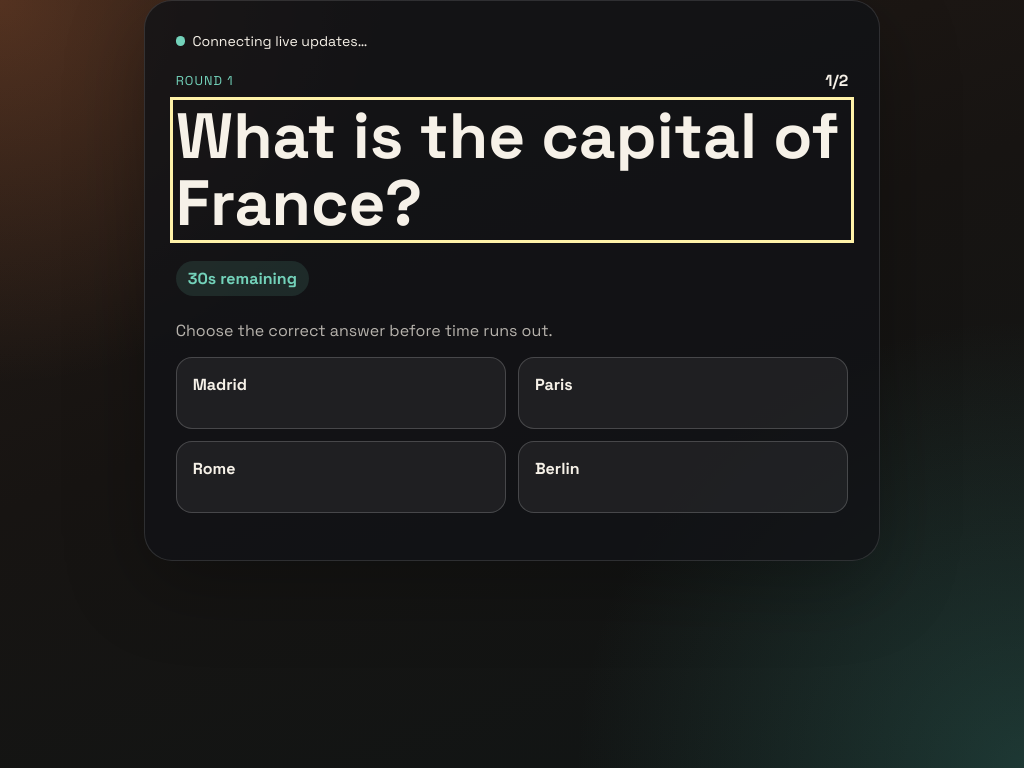
Test: RoomPage › reports a Choice Trivia submission error and permits a retry
Click the button "Berlin" at (557, 469), box left=518, top=442, right=848, bottom=514
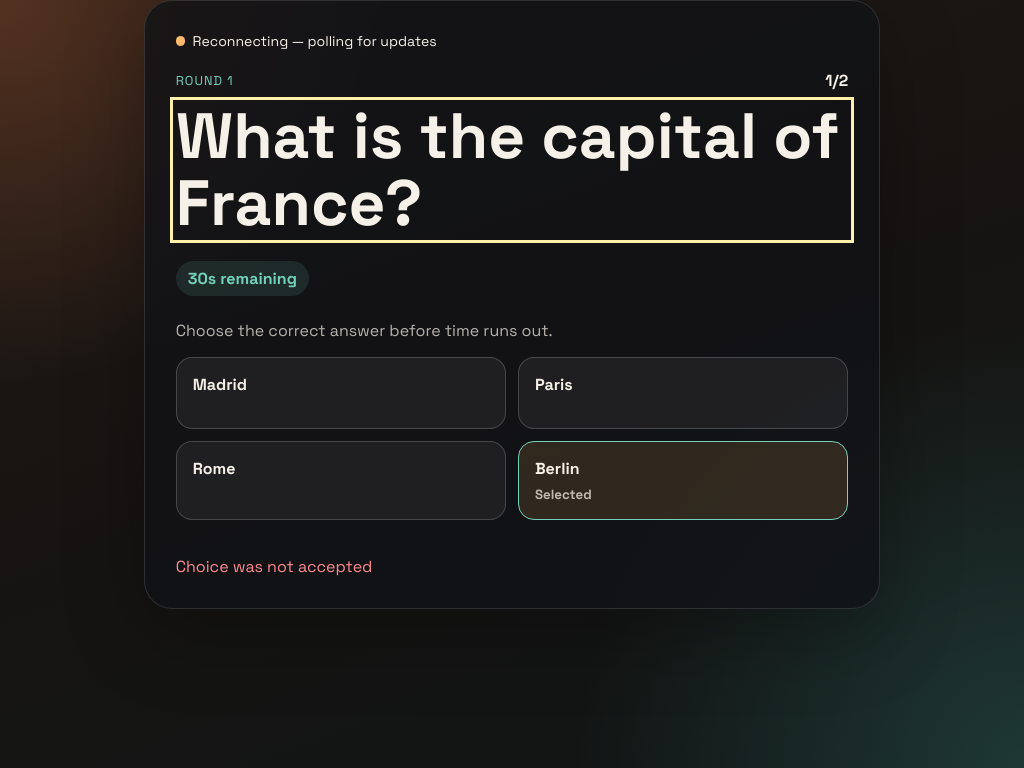
Now the message "Choice was not accepted" is shown, box left=176, top=556, right=372, bottom=577
